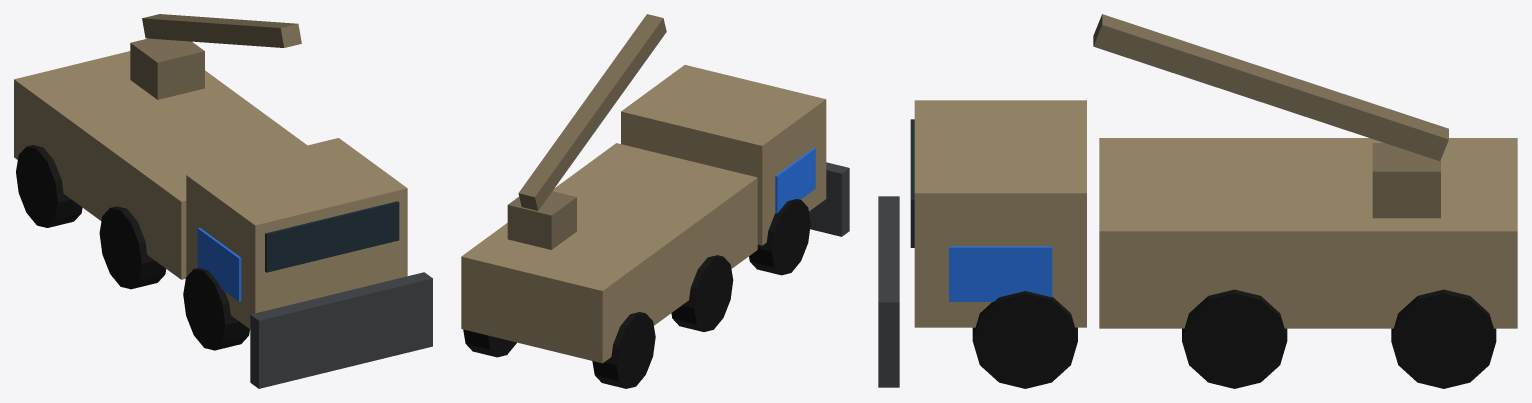
Rendered from ae_engineer.glb.
3 views of the same model, side by side, from view 1: azimuth 30°, elevation 25°; view 2: azimuth 150°, elevation 25°; view 3: azimuth 270°, elevation 25° (orthographic). The views are drawn at different scales.
Parts seen in each view (by area): view 1: body, cab, dozer_blade, windshield, crane_boom, crane_base, wheel_l1, wheel_l2, wheel_l0, team_door_l; view 2: body, cab, crane_boom, crane_base, wheel_l2, wheel_l1, wheel_l0, dozer_blade, team_door_l, wheel_r2; view 3: body, cab, crane_boom, wheel_r2, wheel_r1, wheel_r0, team_door_r, crane_base, dozer_blade, windshield.
Boxes of the visible parts, <box> form: body: <box>14,51,307,279</box>; cab: <box>186,138,407,328</box>; dozer_blade: <box>250,272,432,388</box>; windshield: <box>265,201,399,272</box>; crane_boom: <box>142,14,301,47</box>; crane_base: <box>130,38,204,99</box>; wheel_l1: <box>99,206,166,289</box>; wheel_l2: <box>16,145,82,227</box>; wheel_l0: <box>183,268,249,350</box>; team_door_l: <box>197,227,241,301</box>; body: <box>461,143,757,363</box>; cab: <box>621,65,826,245</box>; crane_boom: <box>518,14,666,210</box>; crane_base: <box>507,191,576,249</box>; wheel_l2: <box>592,312,655,388</box>; wheel_l1: <box>671,255,733,331</box>; wheel_l0: <box>749,199,810,275</box>; dozer_blade: <box>809,162,849,236</box>; team_door_l: <box>775,148,815,213</box>; wheel_r2: <box>463,329,516,357</box>; body: <box>1099,138,1517,328</box>; cab: <box>914,100,1086,327</box>; crane_boom: <box>1093,14,1448,160</box>; wheel_r2: <box>1391,289,1496,388</box>; wheel_r1: <box>1182,289,1287,388</box>; wheel_r0: <box>972,291,1077,388</box>; team_door_r: <box>949,246,1052,301</box>; crane_base: <box>1372,143,1440,218</box>; dozer_blade: <box>878,196,899,387</box>; windshield: <box>910,119,914,247</box>.
Size of the model in its own units: 2.94 by 4.38 by 7.48.
